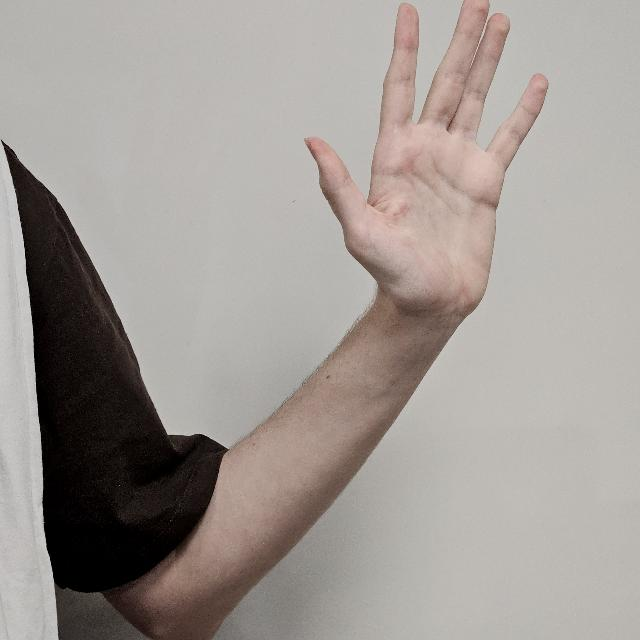X: (299, 2, 546, 336)
